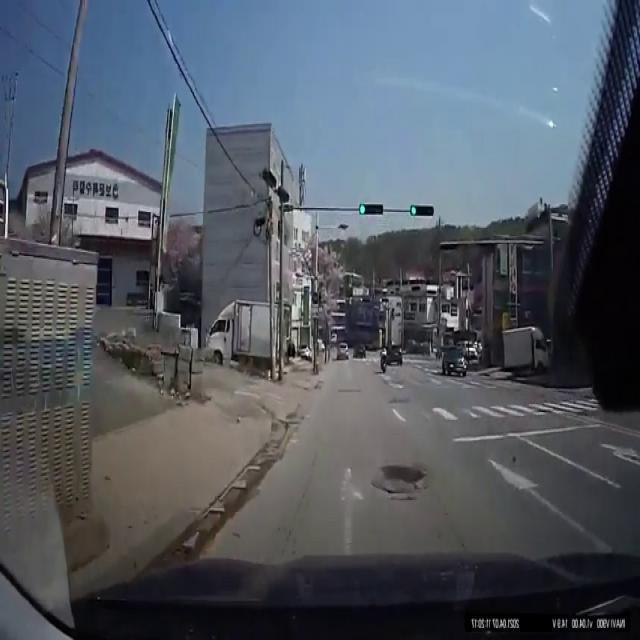pothole: (376, 460, 426, 486)
